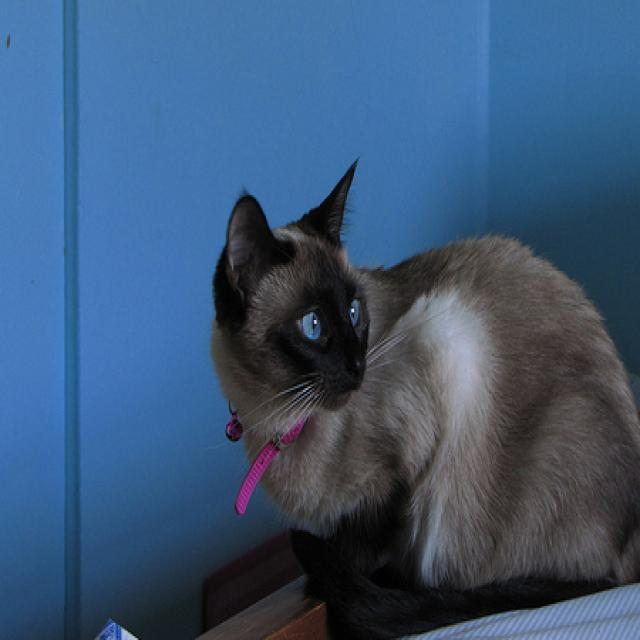Siamese: (206, 151, 640, 640)
